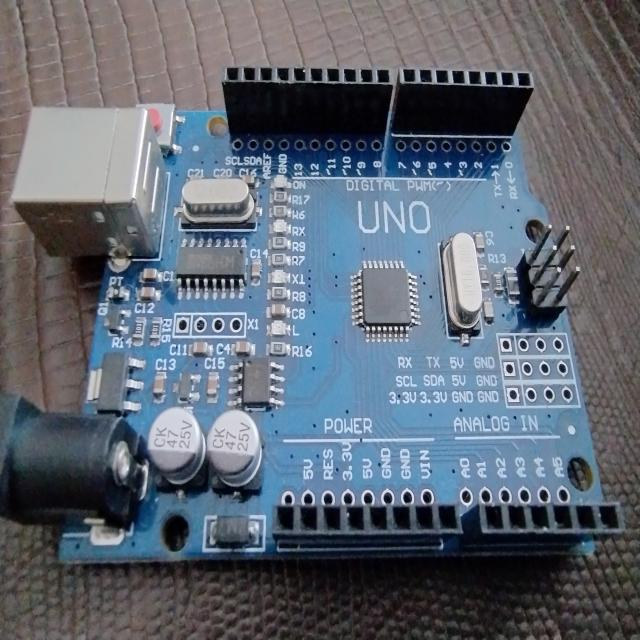arduino: (0, 65, 633, 570)
